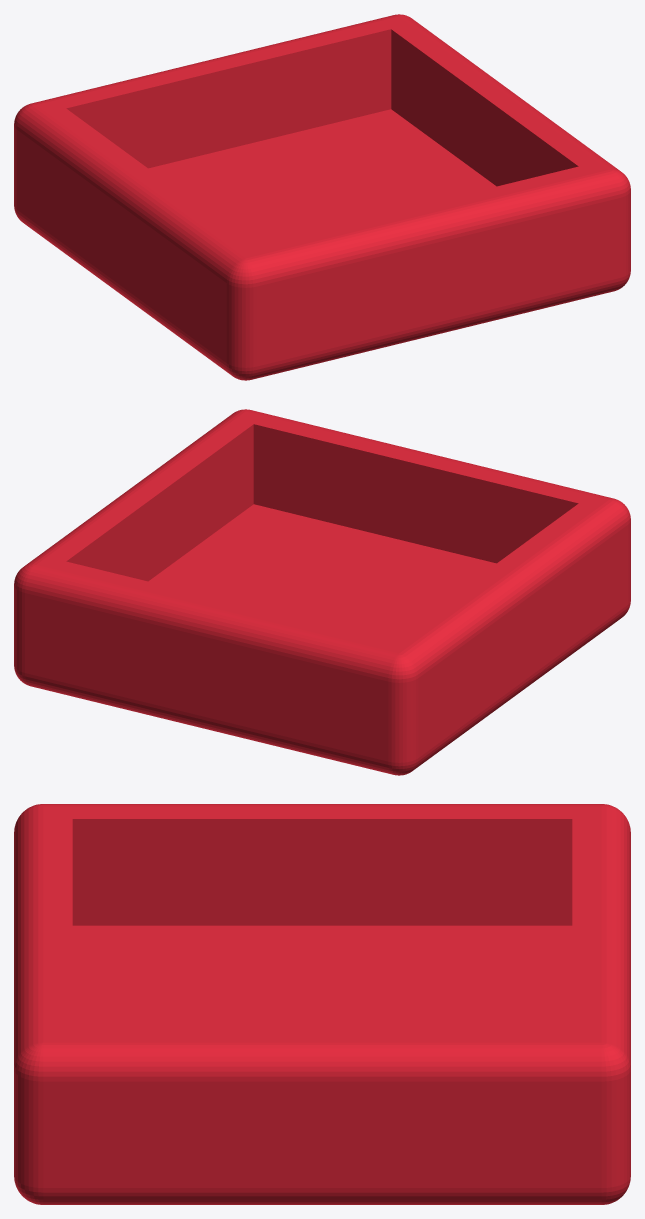
The model's file is container_l.dae.
The picture shows the model from 3 angles, top to bottom: view 1: azimuth 30°, elevation 25°; view 2: azimuth 150°, elevation 25°; view 3: azimuth 270°, elevation 25°; orthographic projection. The views are drawn at different scales.
Parts seen in each view (by area): view 1: 产品1; view 2: 产品1; view 3: 产品1.
Part boxes in pixels (x1=…): 产品1: x1=14, y1=14, x2=630, y2=380; 产品1: x1=14, y1=409, x2=630, y2=775; 产品1: x1=14, y1=804, x2=630, y2=1204.
Size of the model in its own units: 0.105 by 0.105 by 0.03.
